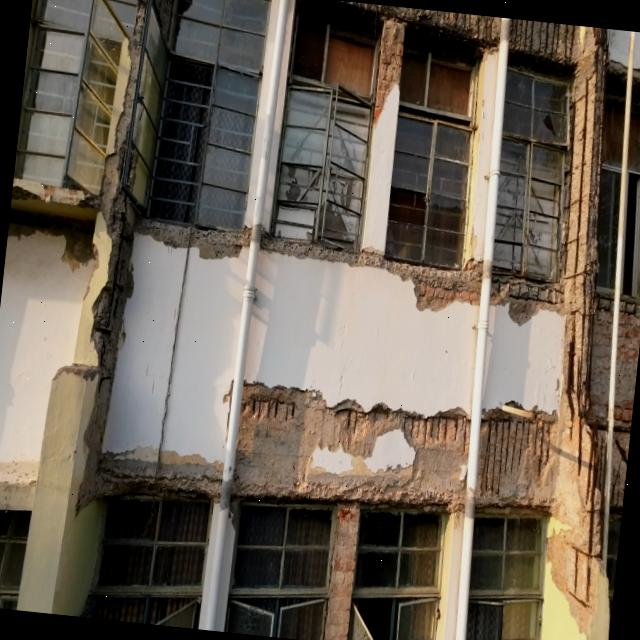crack: (232, 383, 469, 511), (478, 409, 568, 514), (156, 450, 221, 499)
spalling: (567, 26, 607, 414), (615, 297, 640, 427), (589, 290, 613, 420)
